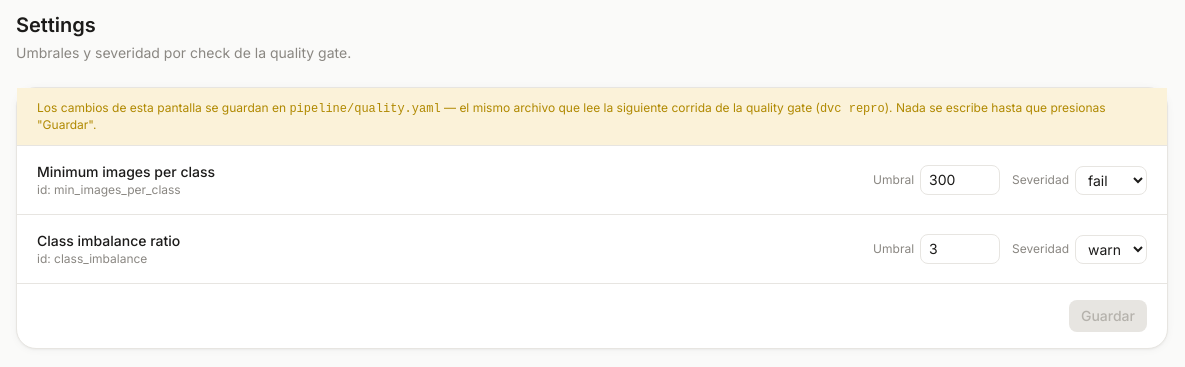
it: Settings persiste contra /quality-policy (APP-07) › Guardar manda PUT con TODOS los checks (editados y sin tocar) y muestra éxito
Replace the text in the field labelled "Umbral" in the row of "Class imbalance ratio" with "4.5" at (960, 249), box left=920, top=234, right=1000, bottom=264
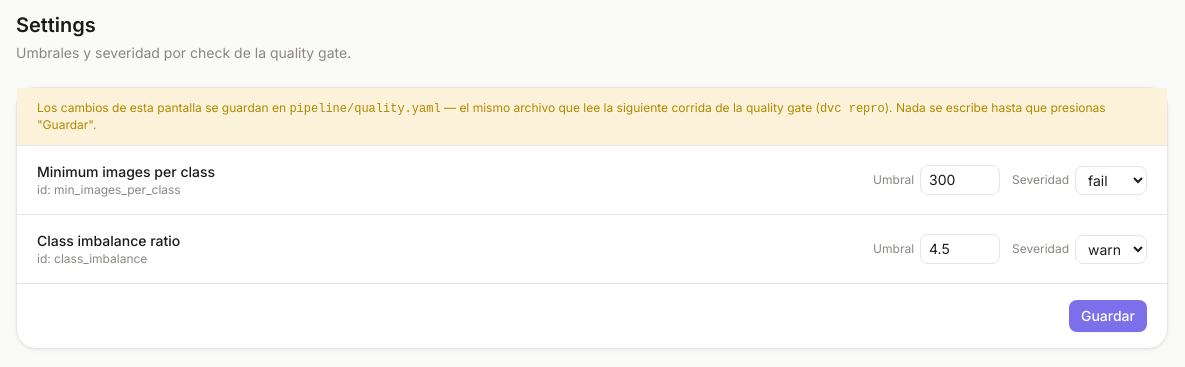
Click the button "Guardar" at (1108, 316), box left=1069, top=300, right=1147, bottom=332
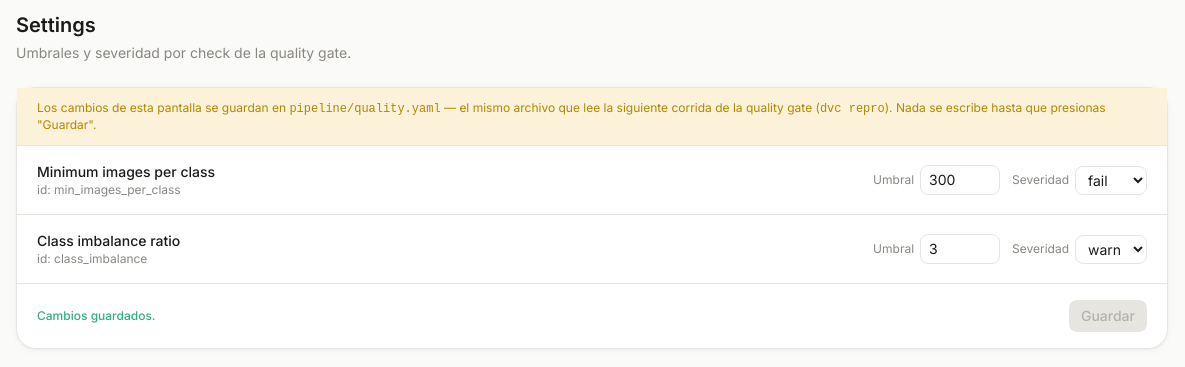
Now the text "Cambios guardados." is shown, box left=37, top=308, right=156, bottom=323
